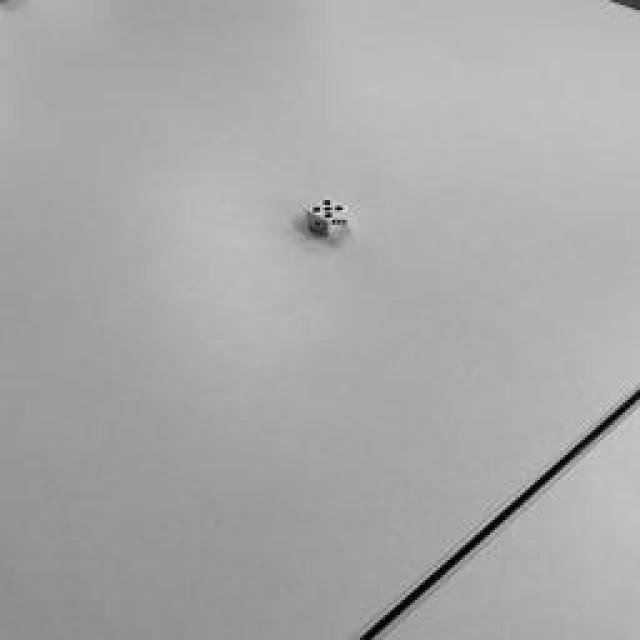dice_5: (308, 199, 348, 221)
